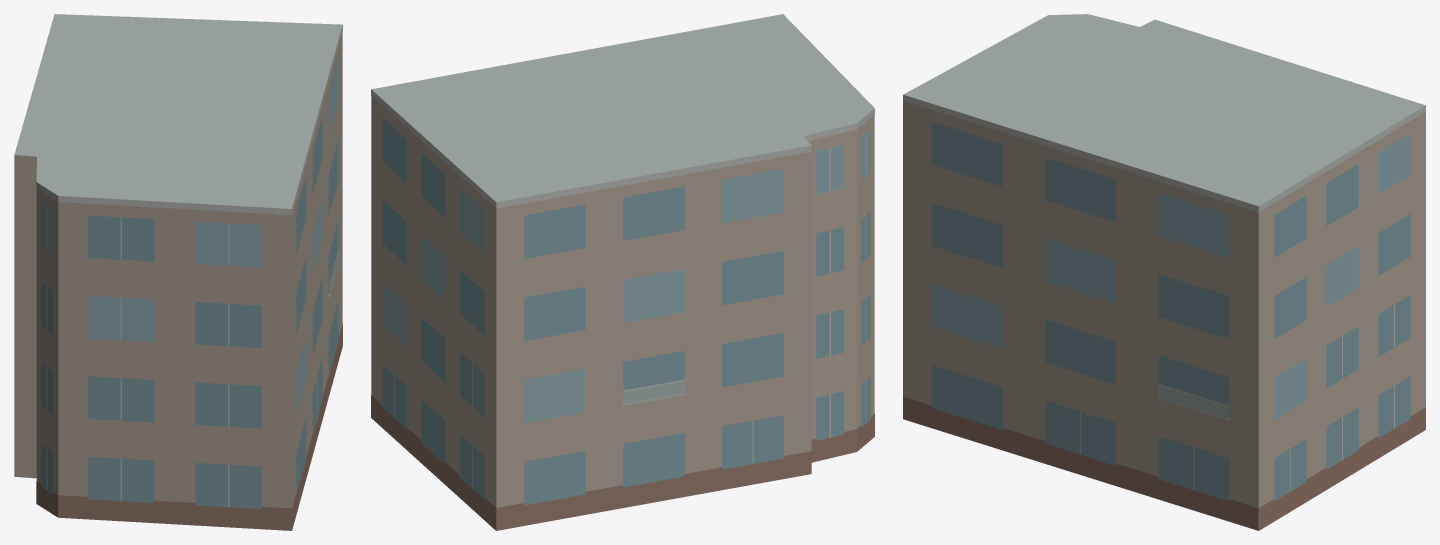
Rendered from survey-upis-32631387.glb.
3 renders of one model, left to right at view 1: azimuth 30°, elevation 25°; view 2: azimuth 150°, elevation 25°; view 3: azimuth 270°, elevation 25°, orthographic. The views are drawn at different scales.
Parts seen in each view (by area): view 1: survey-upis-32631387.tmp; view 2: survey-upis-32631387.tmp; view 3: survey-upis-32631387.tmp.
Boxes of the visible parts, x1,y1,x2,y2 form: survey-upis-32631387.tmp: (14, 14, 342, 530); survey-upis-32631387.tmp: (371, 14, 874, 530); survey-upis-32631387.tmp: (903, 14, 1425, 530).
Bounding box in the file's own units: 16.28 × 12.8 × 18.69.
